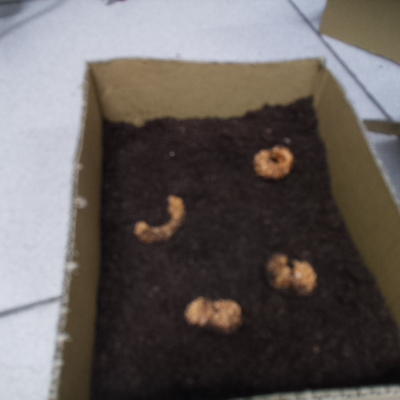eggs: (127, 189, 191, 247), (178, 291, 247, 339), (260, 249, 322, 302), (246, 141, 297, 184)
